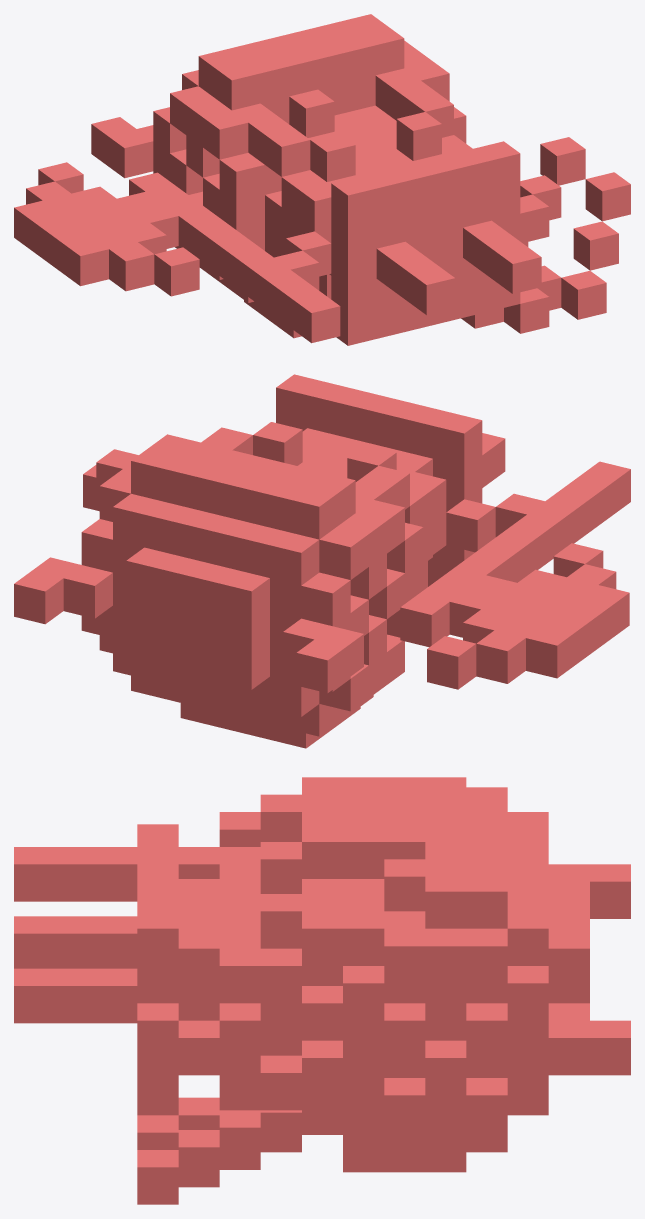
File: Cubeland-1.obj
3 views of the same model, one above another, from view 1: azimuth 30°, elevation 25°; view 2: azimuth 150°, elevation 25°; view 3: azimuth 270°, elevation 25° (orthographic). The views are drawn at different scales.
Size of the model in its own units: 3.6 by 1.6 by 3.
1 material, 1 textured.
